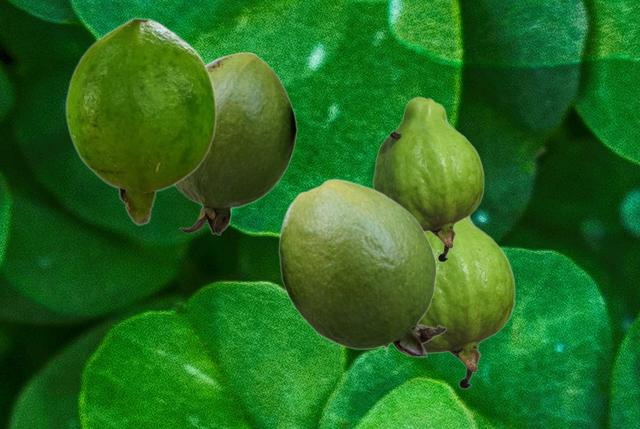guava: (65, 17, 216, 225), (278, 178, 446, 356), (175, 52, 296, 234), (372, 96, 483, 261), (419, 216, 514, 388)
